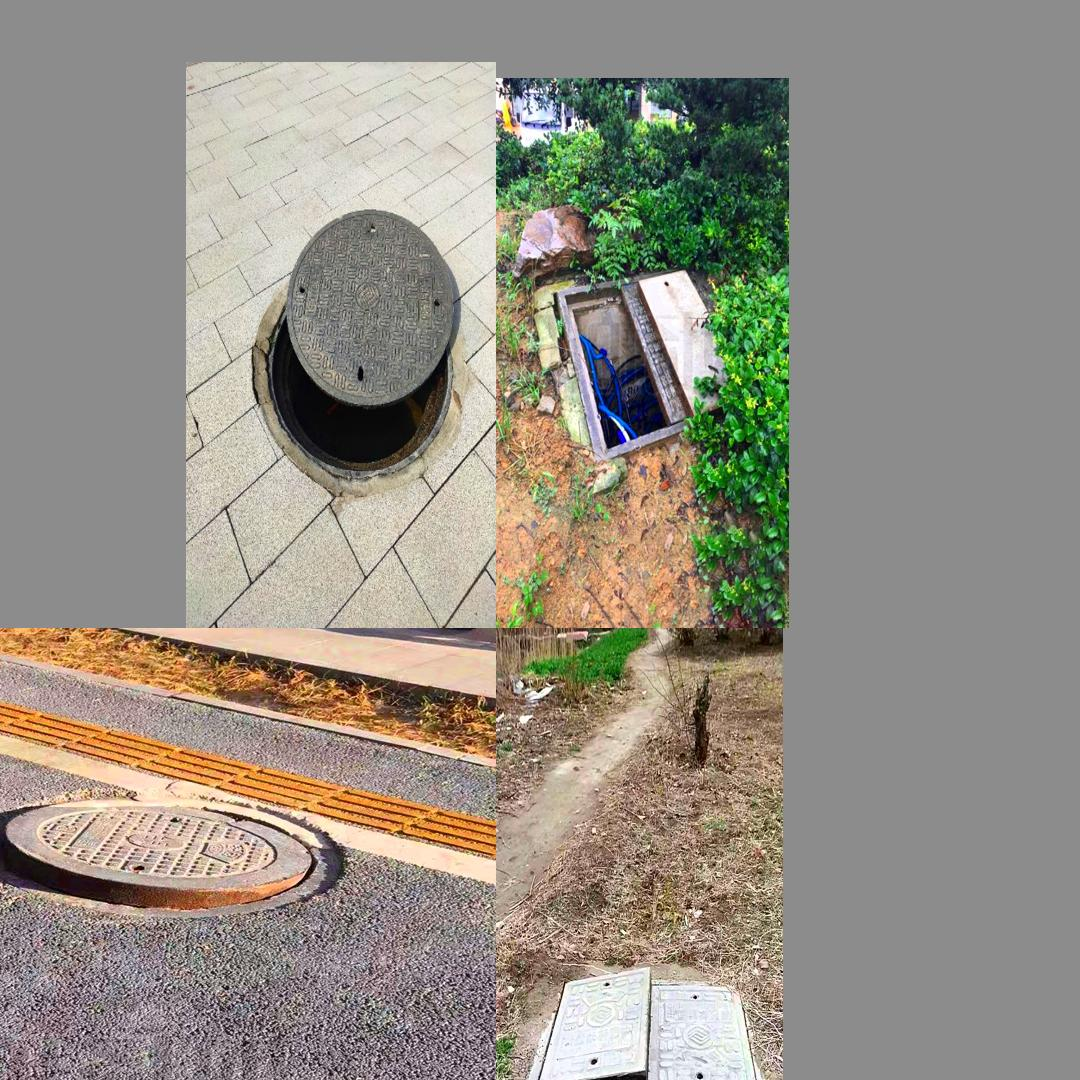uncovered: (266, 209, 452, 474), (4, 801, 339, 914), (553, 270, 728, 460), (521, 967, 772, 1080)
